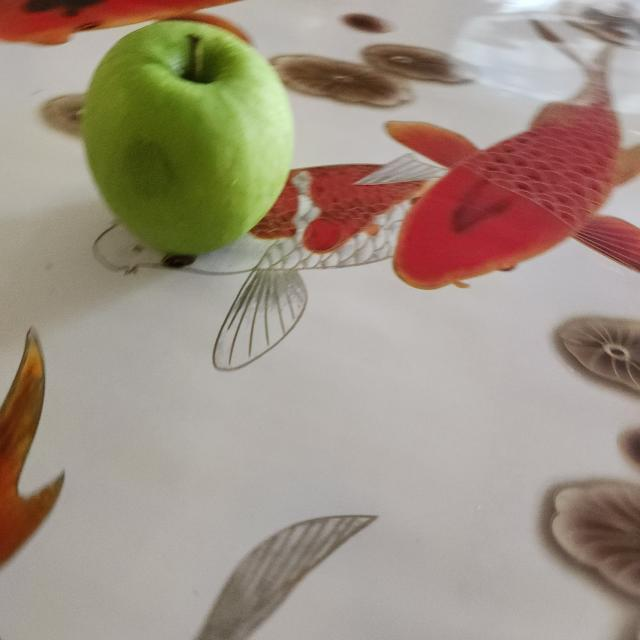apple: (73, 13, 302, 274)
